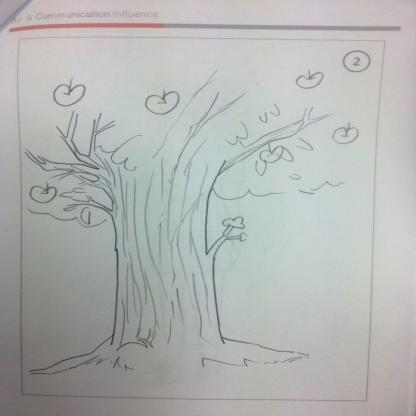apple: (53, 76, 86, 106), (146, 90, 180, 116), (30, 181, 56, 205), (332, 123, 359, 145), (296, 70, 324, 91)
branch_cut: (24, 112, 261, 183)
crown_cloud: (19, 66, 348, 224)
trunk_bark: (113, 257, 222, 324)
